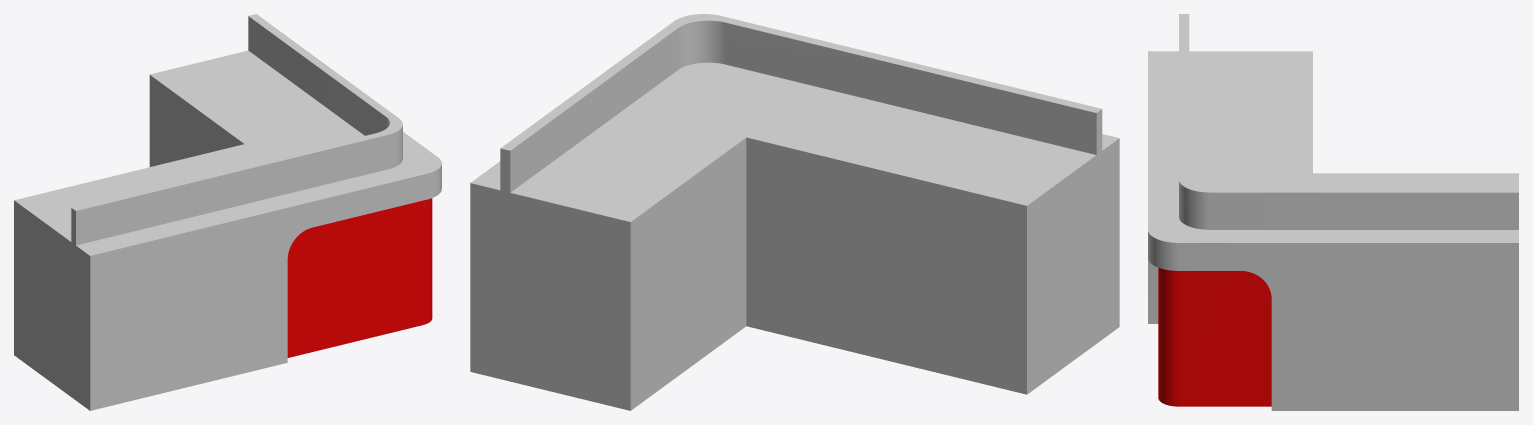
Rendered from counter-set-02-02.glb.
3 renders of one model, left to right at view 1: azimuth 30°, elevation 25°; view 2: azimuth 150°, elevation 25°; view 3: azimuth 270°, elevation 25°, orthographic. The views are drawn at different scales.
Parts seen in each view (by area): view 1: 3DGeom-4, 3DGeom-3, 3DGeom-5; view 2: 3DGeom-3, 3DGeom-4; view 3: 3DGeom-4, 3DGeom-3, 3DGeom-5.
Part boxes in pixels (x1=…): 3DGeom-4: x1=71, y1=14, x2=441, y2=410; 3DGeom-3: x1=14, y1=50, x2=364, y2=396; 3DGeom-5: x1=287, y1=198, x2=432, y2=357; 3DGeom-3: x1=510, y1=62, x2=1096, y2=410; 3DGeom-4: x1=470, y1=14, x2=1119, y2=381; 3DGeom-4: x1=1148, y1=14, x2=1518, y2=410; 3DGeom-3: x1=1189, y1=51, x2=1518, y2=187; 3DGeom-5: x1=1158, y1=267, x2=1271, y2=406.
Size of the model in its own units: 2.2 by 1.1 by 1.8.
